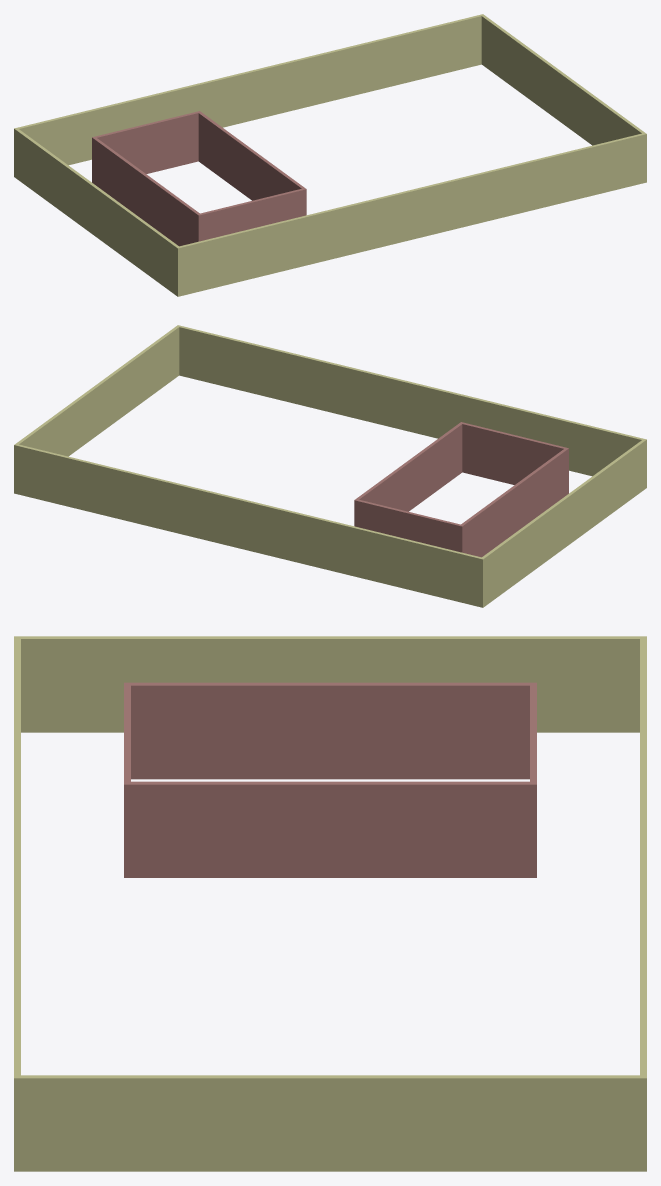
Rendered from depot_simple_18x30_v2.dae.
The picture shows the model from 3 angles, top to bottom: view 1: azimuth 30°, elevation 25°; view 2: azimuth 150°, elevation 25°; view 3: azimuth 270°, elevation 25°; orthographic projection. The views are drawn at different scales.
Visible parts, largest first — view 1: node1, node0; view 2: node1, node0; view 3: node1, node0.
Part boxes in pixels (bbox=[...]): node1: bbox=[14, 14, 646, 296]; node0: bbox=[92, 111, 306, 246]; node1: bbox=[14, 325, 646, 607]; node0: bbox=[354, 422, 568, 557]; node1: bbox=[14, 636, 646, 1171]; node0: bbox=[124, 682, 536, 877].
Size of the model in its own units: 0.0304 by 0.0184 by 0.003.
